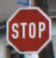stopsign: (6, 6, 52, 55)
